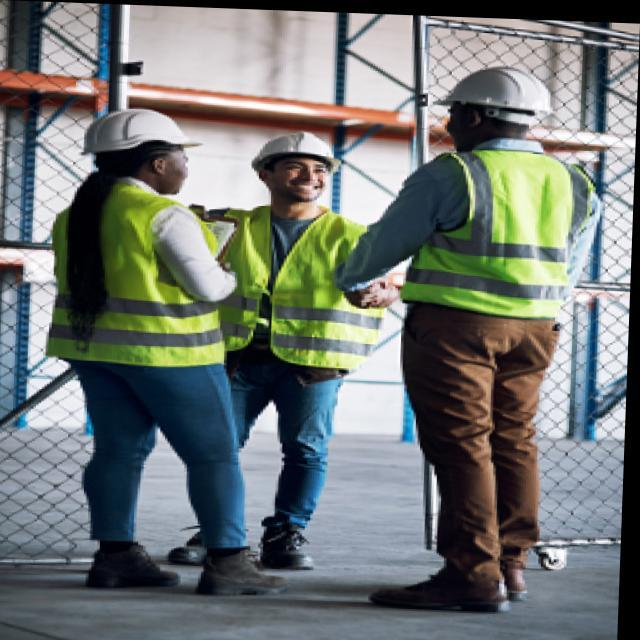boots: (83, 536, 298, 602), (365, 546, 534, 619), (167, 512, 322, 575)
helmet: (79, 103, 206, 198), (427, 63, 558, 152), (239, 128, 341, 208)
vest: (39, 176, 243, 372), (392, 141, 605, 326), (197, 200, 392, 377)
